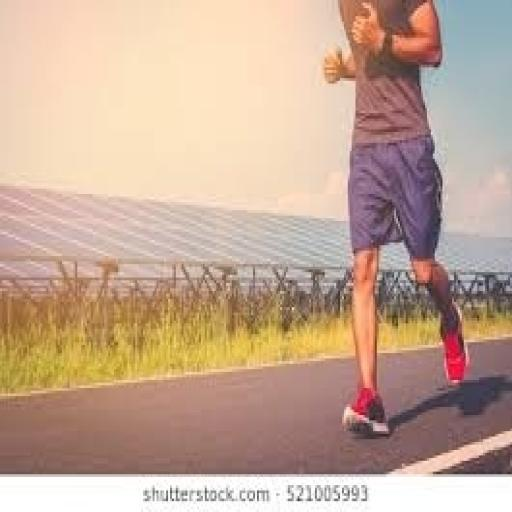running: (321, 0, 471, 439)
